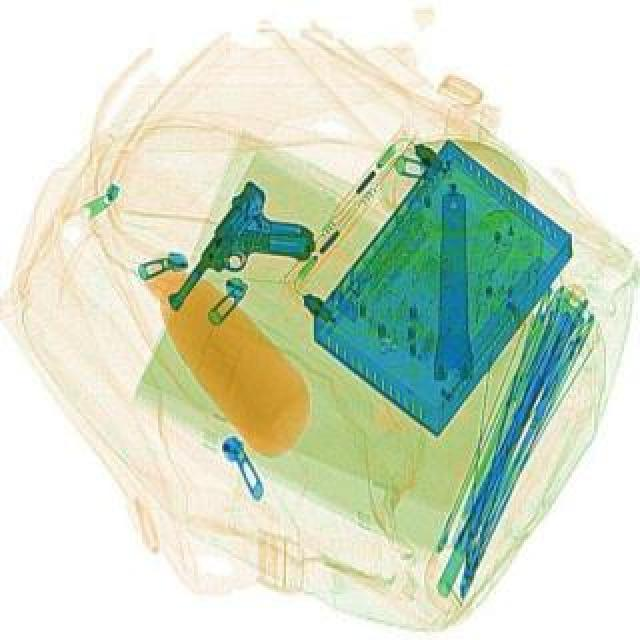gun: (164, 182, 332, 354)
